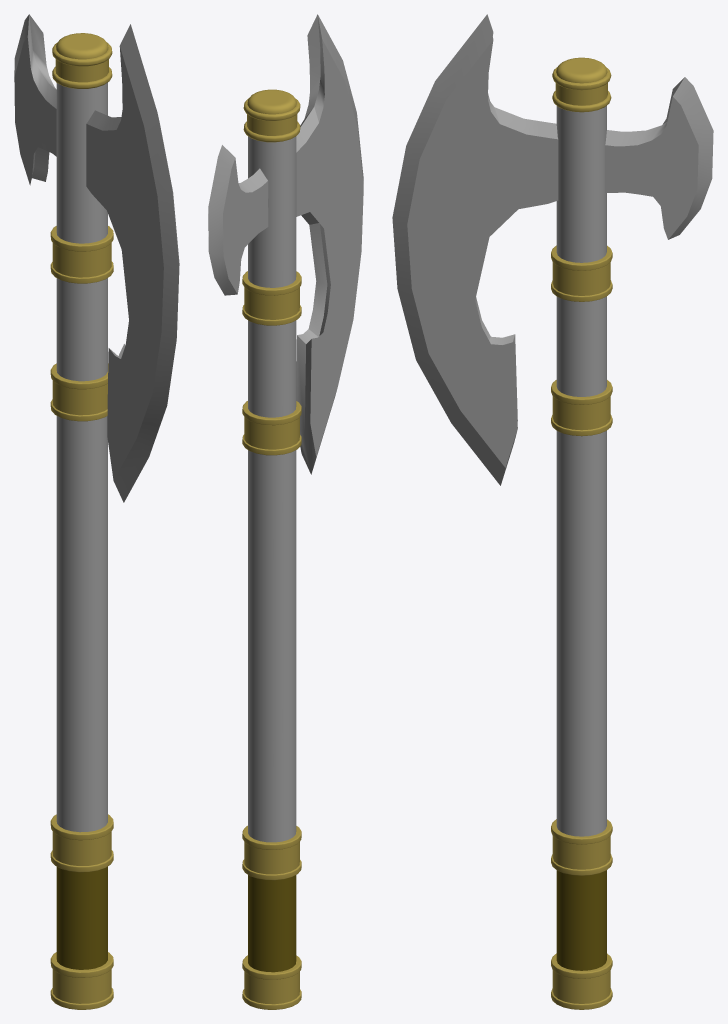
File: Greataxe.fbx
3 views of the same model, side by side, from view 1: azimuth 30°, elevation 25°; view 2: azimuth 150°, elevation 25°; view 3: azimuth 270°, elevation 25° (orthographic). The views are drawn at different scales.
Visible parts, largest first — view 1: polySurface37; view 2: polySurface37; view 3: polySurface37.
Boxes of the visible parts, bbox=[...] form: polySurface37: bbox=[14, 14, 179, 1009]; polySurface37: bbox=[208, 14, 363, 1009]; polySurface37: bbox=[392, 14, 713, 1009].
Size of the model in its own units: 0.4722 by 8.29 by 2.45.
